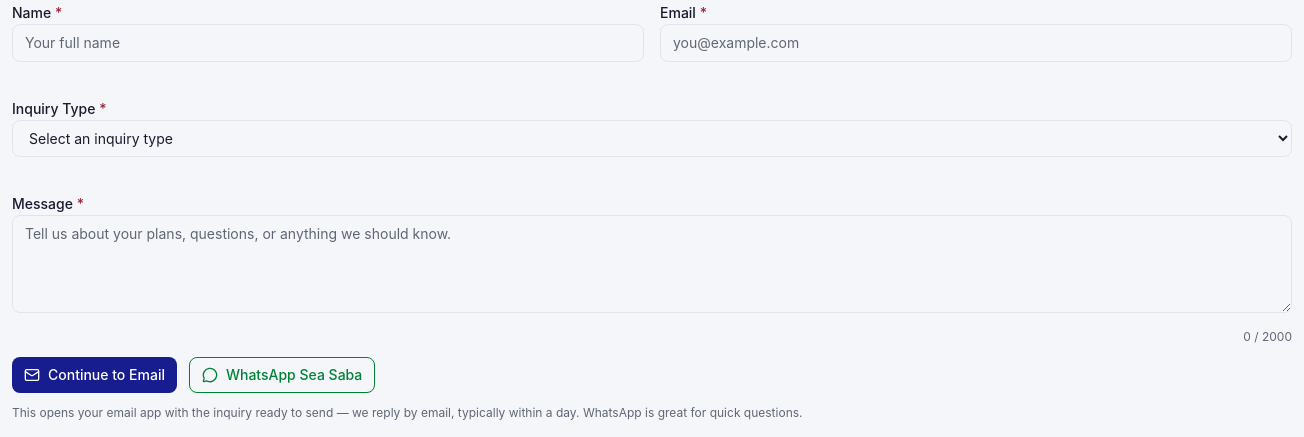
Test: blocks empty WhatsApp submissions with accessible errors
Step 1. Click the button with aria-label "Send inquiry by WhatsApp" → (282, 375), box [189,357,375,393]
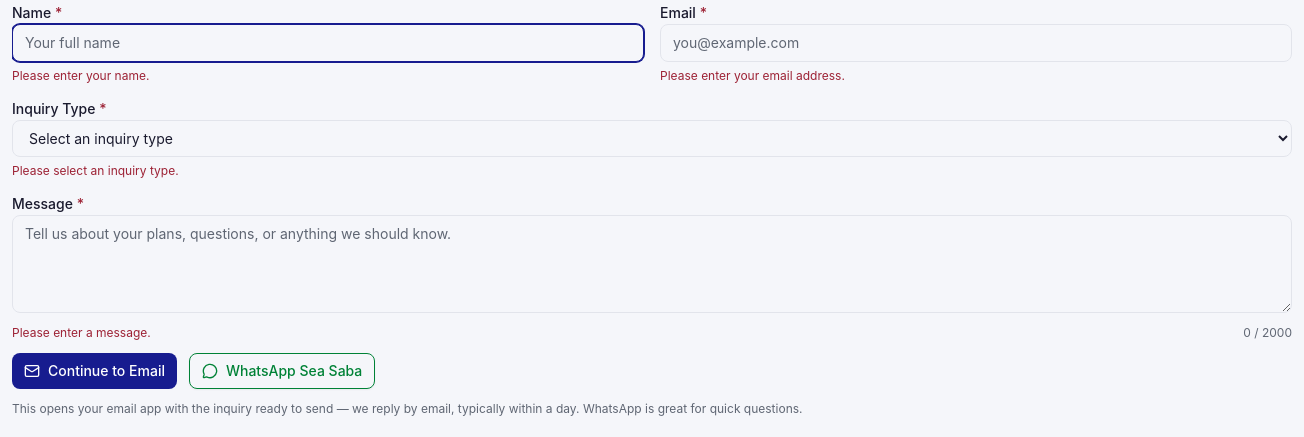
Now the text "Please enter your name." is shown, box [12,68,149,83]
Now the text "Please enter your email address." is shown, box [660,68,845,83]
Now the text "Please select an inquiry type." is shown, box [12,163,179,178]
